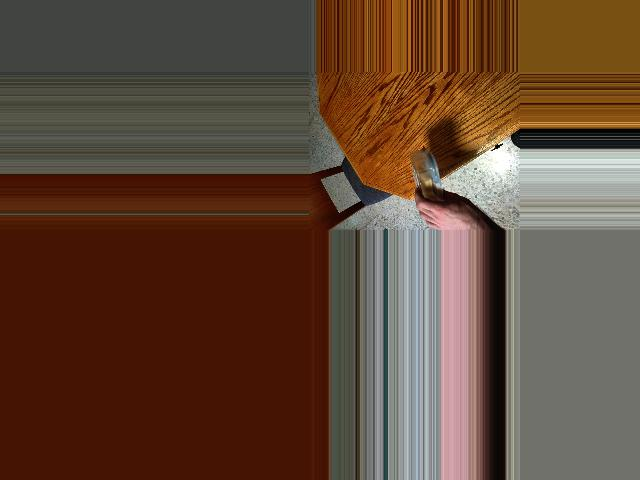cheese: (409, 154, 452, 200)
